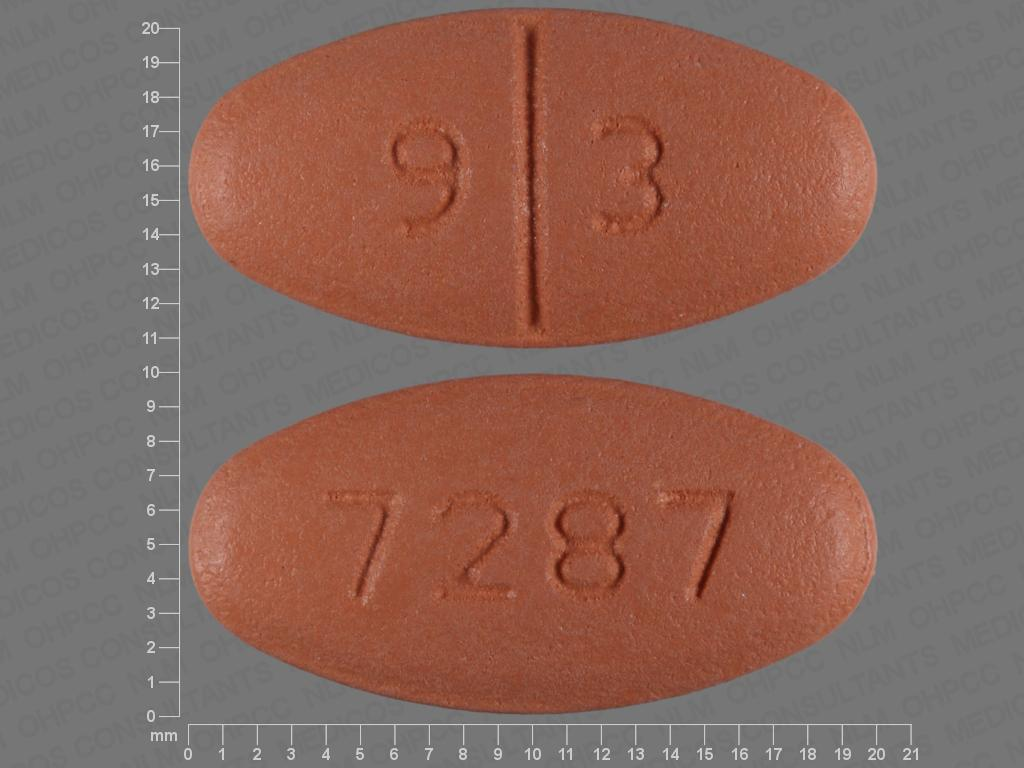Pill: (183, 363, 886, 720), (183, 0, 884, 357)
